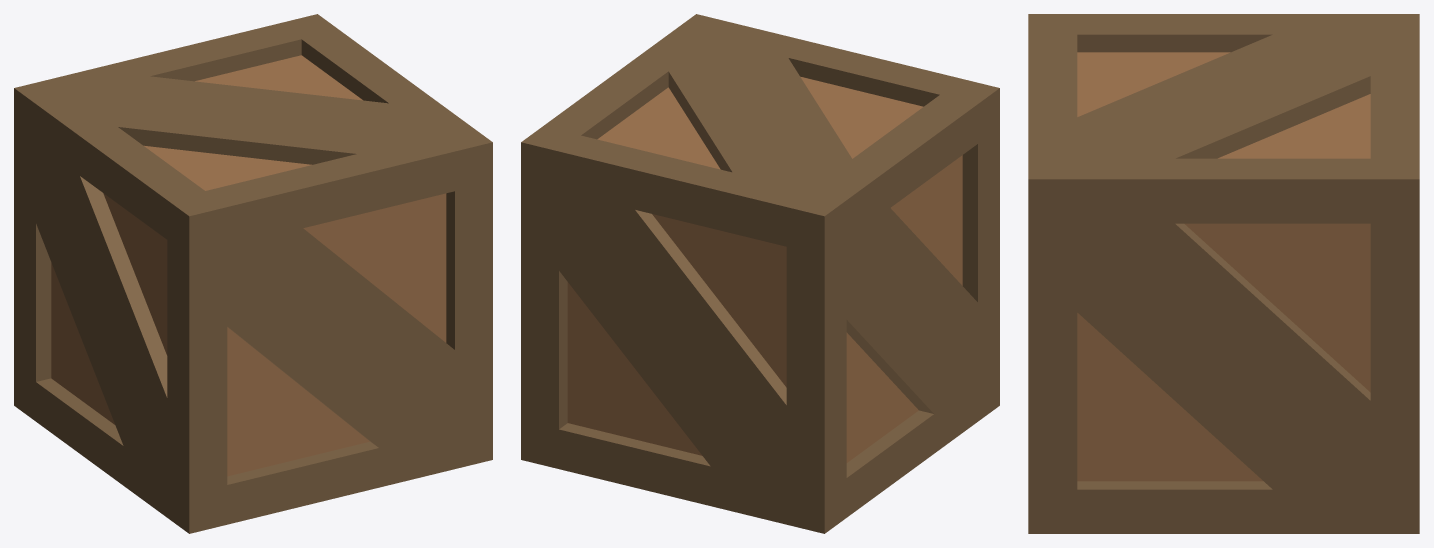
The model's file is crate.fbx.
3 renders of one model, left to right at view 1: azimuth 30°, elevation 25°; view 2: azimuth 150°, elevation 25°; view 3: azimuth 270°, elevation 25°, orthographic. The views are drawn at different scales.
Visible parts, largest first — view 1: Cube; view 2: Cube; view 3: Cube.
Part boxes in pixels (left/top/right/bottom): Cube: left=14, top=14, right=492, bottom=533; Cube: left=521, top=14, right=999, bottom=533; Cube: left=1028, top=14, right=1419, bottom=533.
Size of the model in its own units: 200 by 200 by 200.
